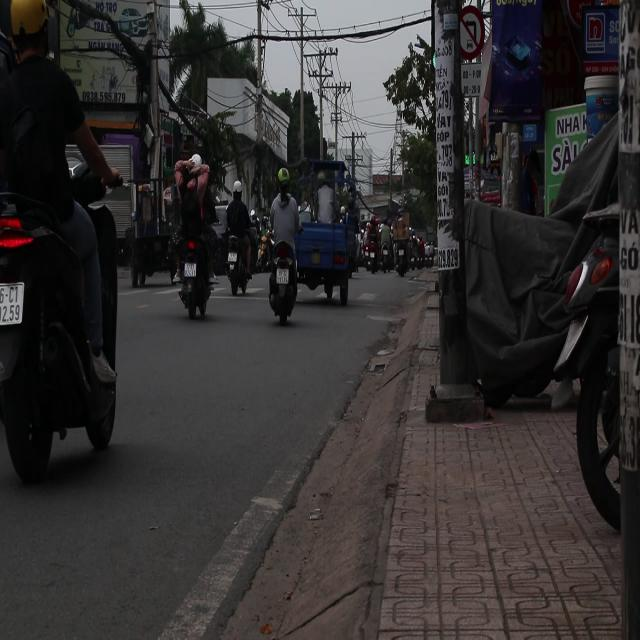motorbike: (546, 158, 640, 566), (0, 185, 120, 476), (173, 226, 219, 321), (268, 241, 300, 326), (226, 231, 249, 298)
truck: (294, 199, 357, 304)
